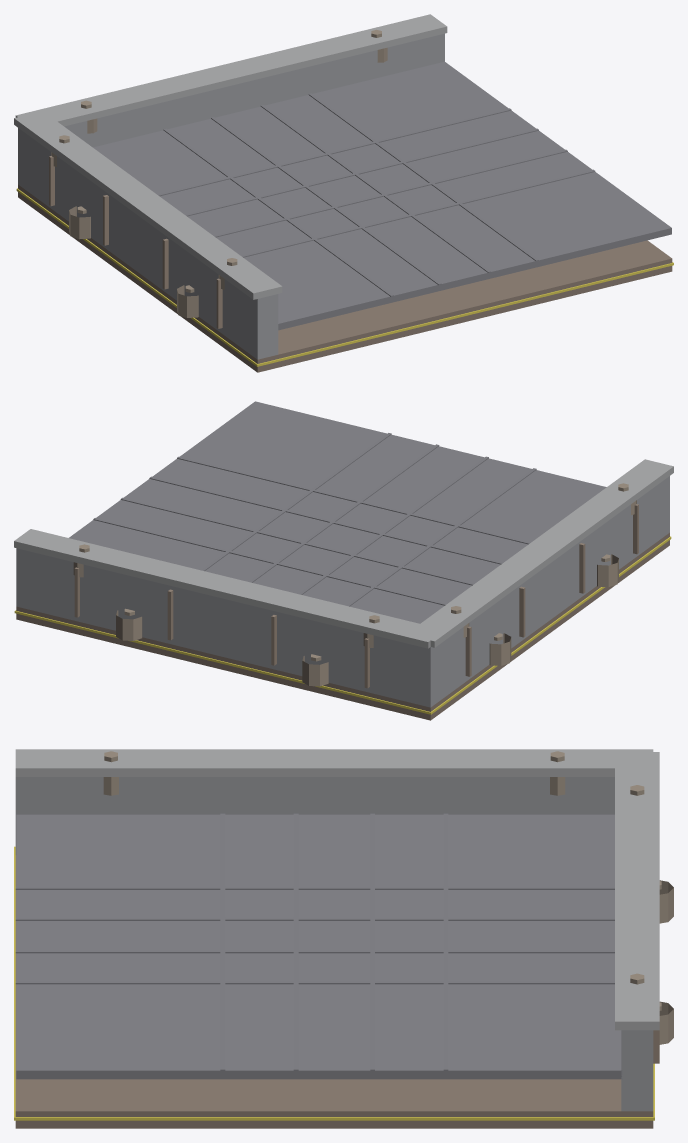
The model's file is conveyor_turn_flat.glb.
3 renders of one model, top to bottom at view 1: azimuth 30°, elevation 25°; view 2: azimuth 150°, elevation 25°; view 3: azimuth 270°, elevation 25°, orthographic. The views are drawn at different scales.
Parts seen in each view (by area): view 1: BeltSurface, BasePlate, Wall_left, Wall_front, WallCap_front, WallCap_left, HazardStripe, BeltGroove_x3, BeltGroove_x0, BeltGroove_x1, BeltGroove_x2, BeltGroove_y3 (+5 smaller); view 2: BeltSurface, Wall_front, Wall_left, WallCap_front, WallCap_left, BasePlate, HazardStripe, BeltGroove_x3, BeltGroove_x1, BeltGroove_x2, BeltGroove_x0, BeltGroove_y0 (+7 smaller); view 3: BeltSurface, BasePlate, Wall_left, WallCap_left, WallCap_front, HazardStripe, Wall_front, BeltGroove_y1, BeltGroove_y3, BeltGroove_y2, BeltGroove_y0, BeltGroove_x0 (+5 smaller).
Boxes of the visible parts, <box> form: BeltSurface: <box>93,61,671,330</box>; BasePlate: <box>18,184,672,372</box>; Wall_left: <box>18,136,278,359</box>; Wall_front: <box>18,33,444,192</box>; WallCap_front: <box>15,14,447,127</box>; WallCap_left: <box>14,111,282,299</box>; HazardStripe: <box>16,188,673,366</box>; BeltGroove_x3: <box>157,108,511,196</box>; BeltGroove_x0: <box>241,169,595,257</box>; BeltGroove_x1: <box>213,149,567,237</box>; BeltGroove_x2: <box>184,128,538,216</box>; BeltGroove_y3: <box>308,93,538,261</box>; BeltSurface: <box>69,401,606,623</box>; Wall_front: <box>16,548,442,707</box>; Wall_left: <box>410,476,669,706</box>; WallCap_front: <box>14,529,444,648</box>; WallCap_left: <box>406,459,673,647</box>; BasePlate: <box>16,532,669,720</box>; HazardStripe: <box>14,536,671,714</box>; BeltGroove_x3: <box>93,518,447,605</box>; BeltGroove_x1: <box>149,476,503,564</box>; BeltGroove_x2: <box>120,497,474,585</box>; BeltGroove_x0: <box>177,456,530,544</box>; BeltGroove_y0: <box>346,468,536,606</box>; BeltSurface: <box>16,814,621,1079</box>; BasePlate: <box>15,855,653,1128</box>; Wall_left: <box>15,777,614,854</box>; WallCap_left: <box>15,749,653,776</box>; WallCap_front: <box>615,752,659,1030</box>; HazardStripe: <box>14,846,654,1120</box>; Wall_front: <box>621,1030,653,1111</box>; BeltGroove_y1: <box>15,917,614,920</box>; BeltGroove_y3: <box>15,981,614,984</box>; BeltGroove_y2: <box>15,950,614,953</box>; BeltGroove_y0: <box>15,886,614,889</box>; BeltGroove_x0: <box>220,813,225,1070</box>.
Bounding box in the file's own units: 1.03 × 0.1925 × 1.03.
